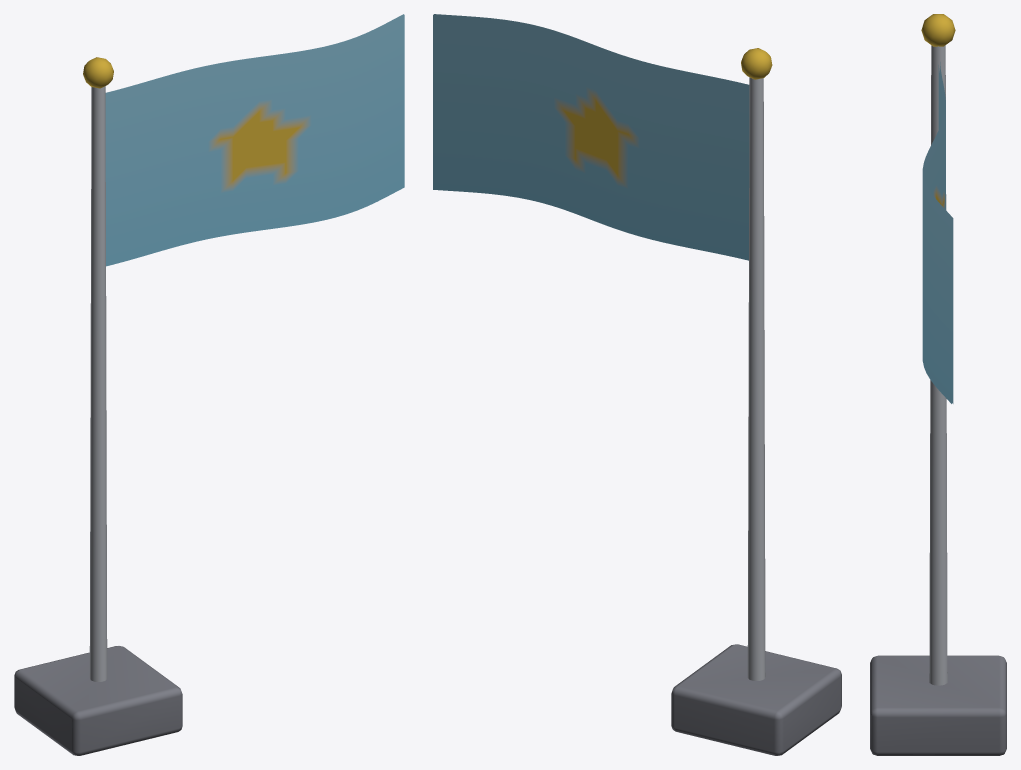
File: furn_disp_flag.glb
The picture shows the model from 3 angles, left to right: view 1: azimuth 30°, elevation 25°; view 2: azimuth 150°, elevation 25°; view 3: azimuth 270°, elevation 25°; orthographic projection. The views are drawn at different scales.
Parts seen in each view (by area): view 1: furn_disp_flag_main; view 2: furn_disp_flag_main; view 3: furn_disp_flag_main.
Boxes of the visible parts, x1,y1,x2,y2 form: furn_disp_flag_main: (14, 14, 404, 755); furn_disp_flag_main: (433, 14, 841, 755); furn_disp_flag_main: (870, 14, 1006, 755).
Bounding box in the file's own units: 1.2 × 2.08 × 0.36.
